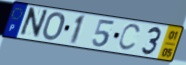1: (70, 13, 89, 47)
3: (140, 26, 163, 56)
5: (91, 20, 117, 49)
C: (117, 23, 143, 53)
N: (17, 6, 50, 40)
O: (41, 11, 66, 42)
